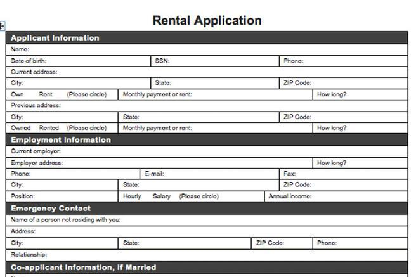textbox: (3, 246, 412, 264), (4, 97, 412, 115), (3, 63, 410, 80), (3, 223, 410, 240), (3, 41, 411, 57), (4, 144, 410, 159), (4, 213, 410, 228), (3, 156, 316, 171), (116, 86, 316, 103), (115, 119, 315, 136), (116, 108, 282, 126), (114, 177, 283, 194), (4, 53, 153, 70), (261, 188, 410, 205), (276, 108, 411, 126), (116, 188, 267, 204), (4, 75, 153, 91), (115, 235, 254, 252), (137, 166, 282, 182), (148, 53, 282, 70), (148, 74, 281, 91), (277, 166, 410, 183), (278, 176, 411, 193), (4, 166, 142, 182), (277, 54, 410, 70), (277, 75, 410, 91), (3, 86, 122, 103), (3, 235, 121, 252), (3, 119, 120, 136), (3, 177, 120, 194), (3, 109, 120, 125), (4, 189, 120, 204), (310, 154, 411, 171), (310, 235, 410, 252), (311, 86, 410, 103), (309, 120, 410, 136), (248, 235, 315, 252)
